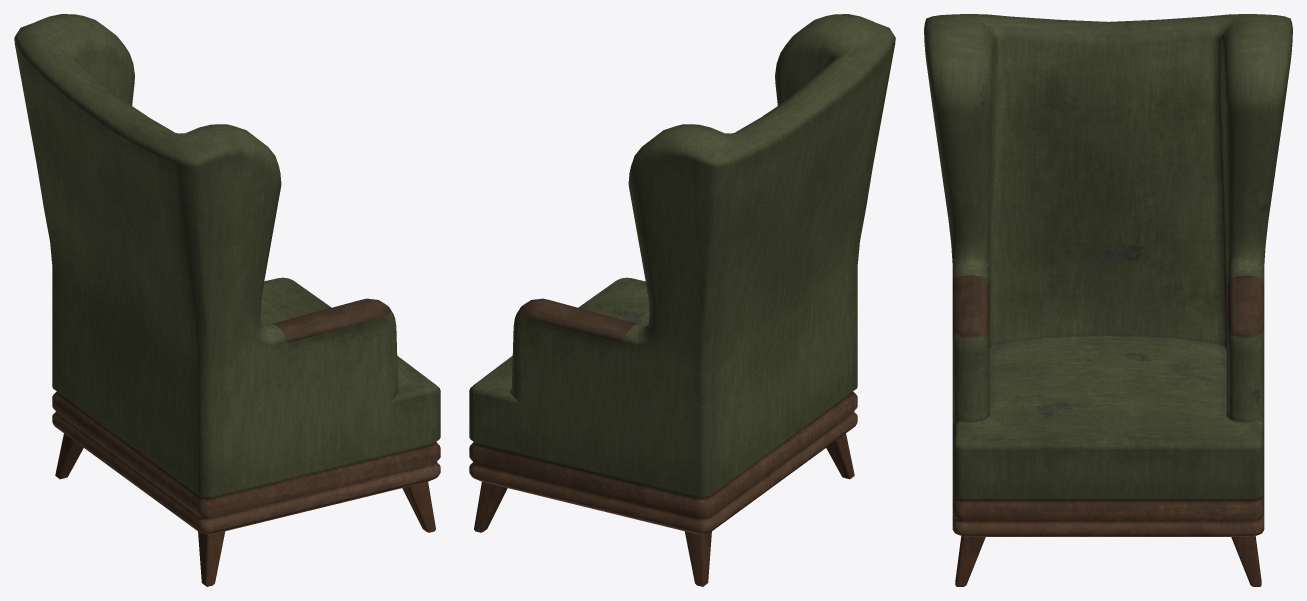
The model's file is old_chair.glb.
The picture shows the model from 3 angles, left to right: view 1: azimuth 30°, elevation 25°; view 2: azimuth 150°, elevation 25°; view 3: azimuth 270°, elevation 25°; orthographic projection.
Parts seen in each view (by area): view 1: Cube.1629; view 2: Cube.1629; view 3: Cube.1629.
Part boxes in pixels (box(x1,y1,x2,y2)): Cube.1629: box(14, 14, 440, 586); Cube.1629: box(469, 14, 895, 586); Cube.1629: box(924, 14, 1292, 586).
Size of the model in its own units: 0.8237 by 1.29 by 0.9434.
Materials: 1 (1 with a texture image).
